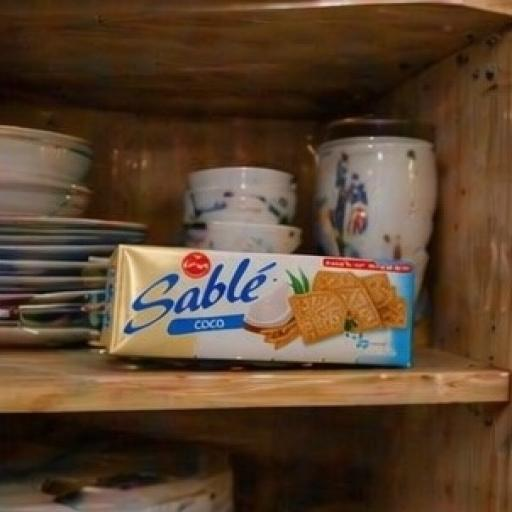sabl: (48, 204, 468, 437)
